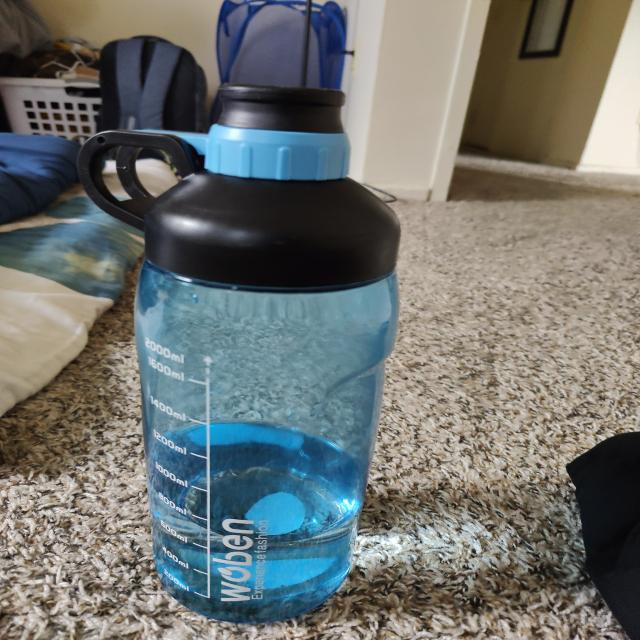bottle: (81, 104, 387, 600)
